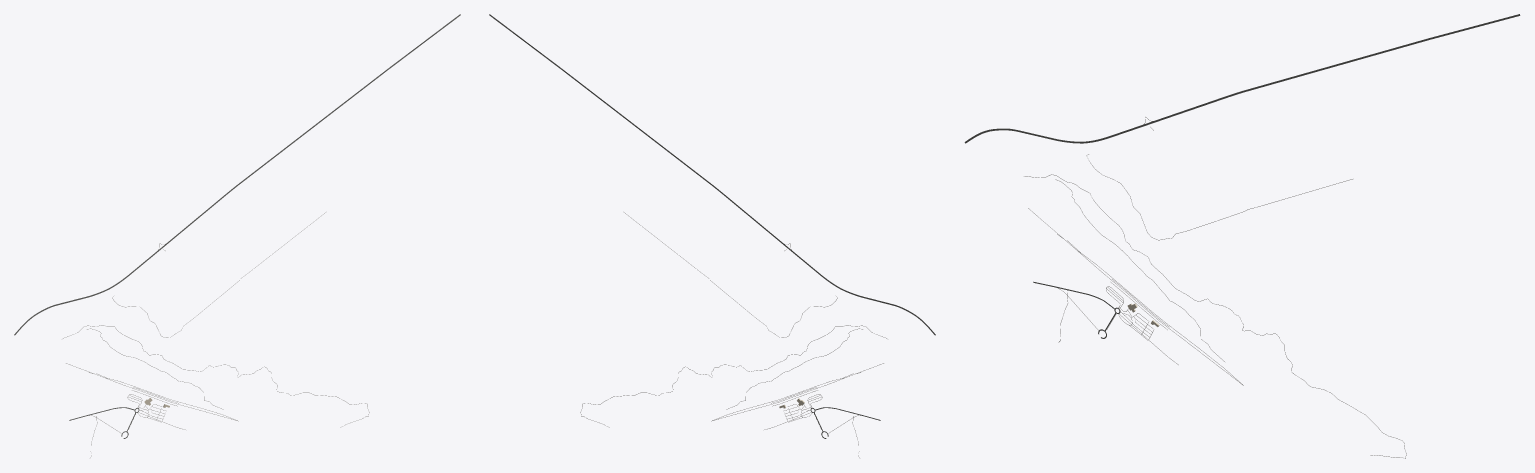
The model's file is historic-palestine-04_19_3463_3132.glb.
3 renders of one model, left to right at view 1: azimuth 30°, elevation 25°; view 2: azimuth 150°, elevation 25°; view 3: azimuth 330°, elevation 25°, orthographic. The views are drawn at different scales.
Parts seen in each view (by area): view 1: Road 241; view 2: Road 241; view 3: Road 241.
Part boxes in pixels (x1,y1,x2,y2): Road 241: (14, 14, 460, 335); Road 241: (489, 14, 935, 335); Road 241: (964, 14, 1520, 143).
Size of the model in its own units: 2680 by 2202 by 8.83.
